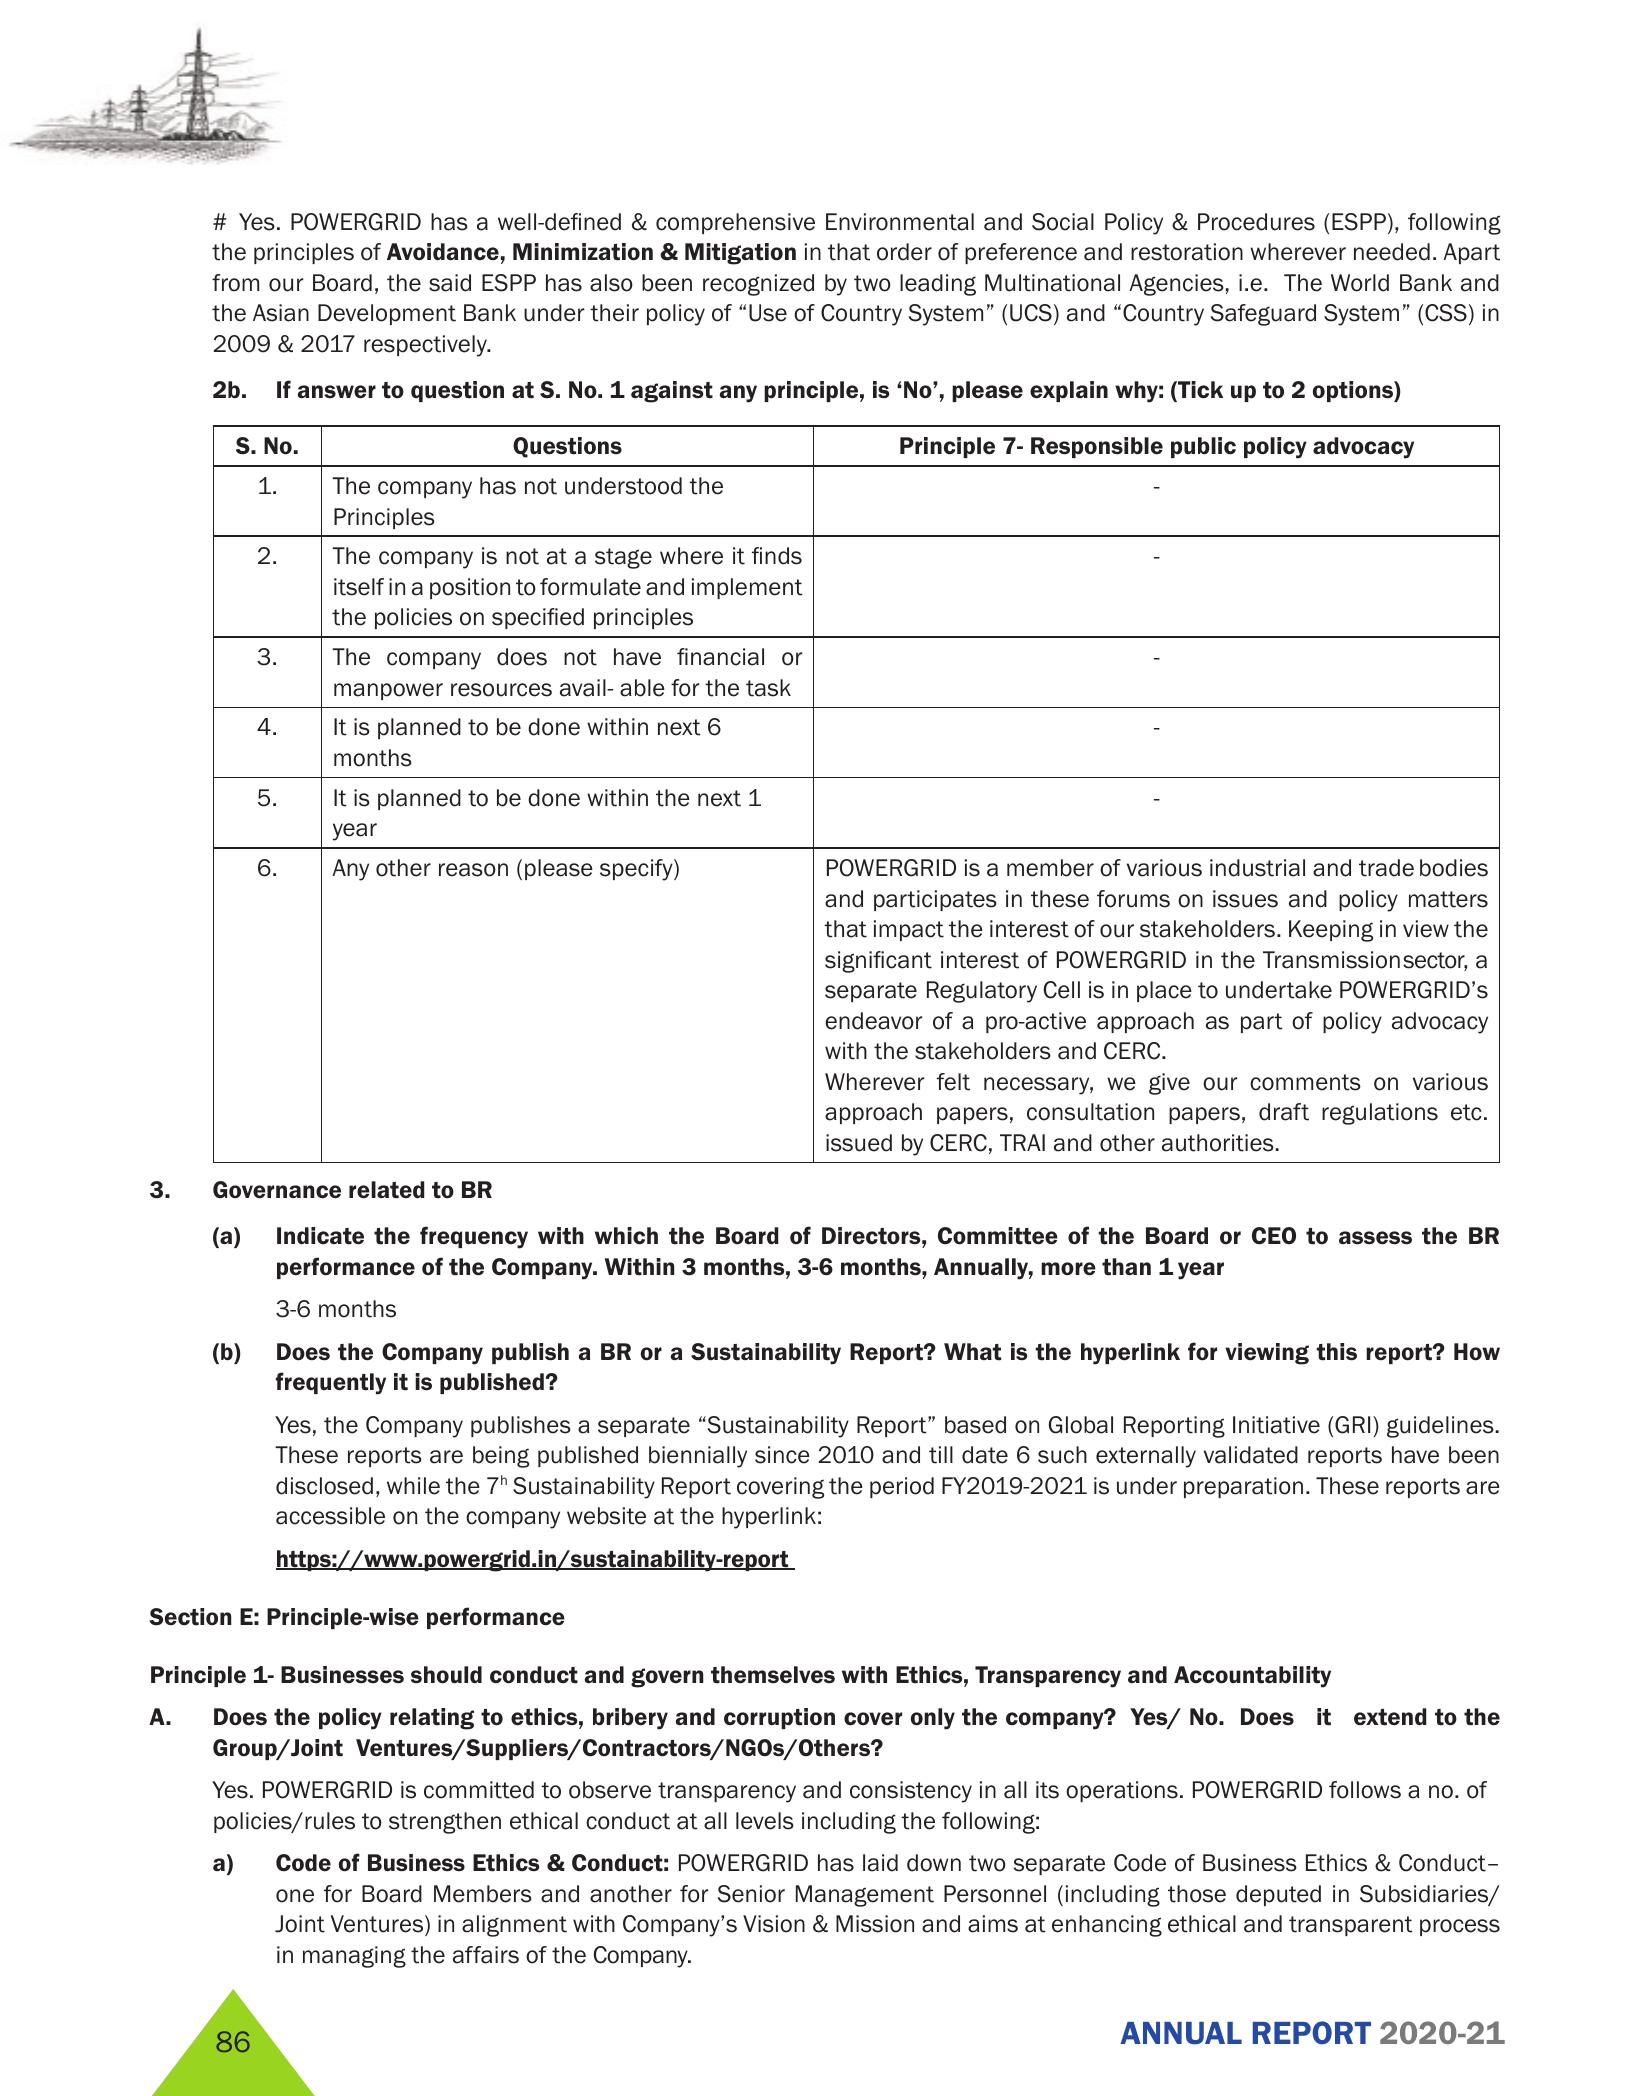Footer: (0, 1974, 1650, 2096)
Header: (0, 0, 1650, 189)
Table: (129, 408, 1528, 1172)
